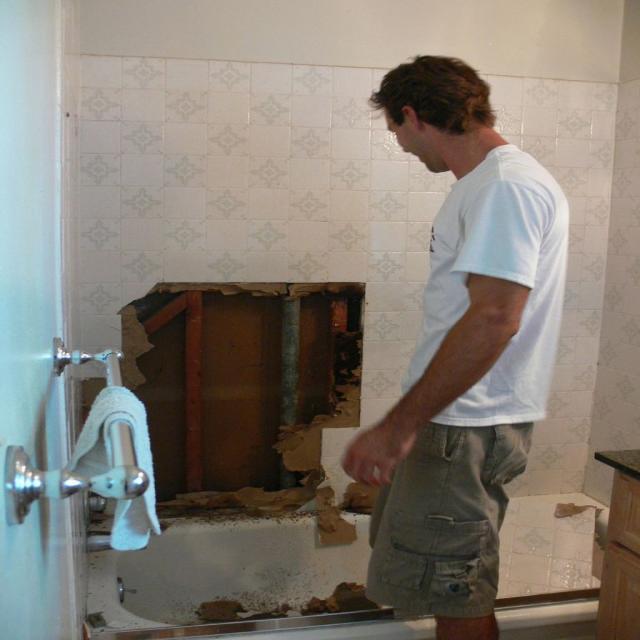no_helmet: (341, 46, 496, 188)
